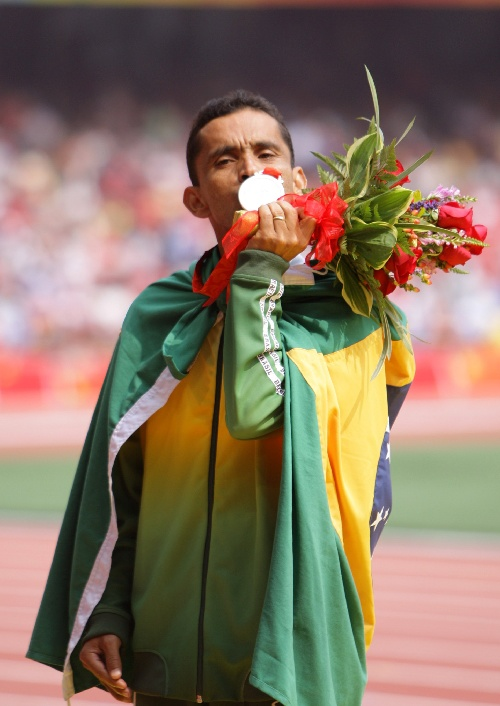face: (198, 117, 296, 250)
